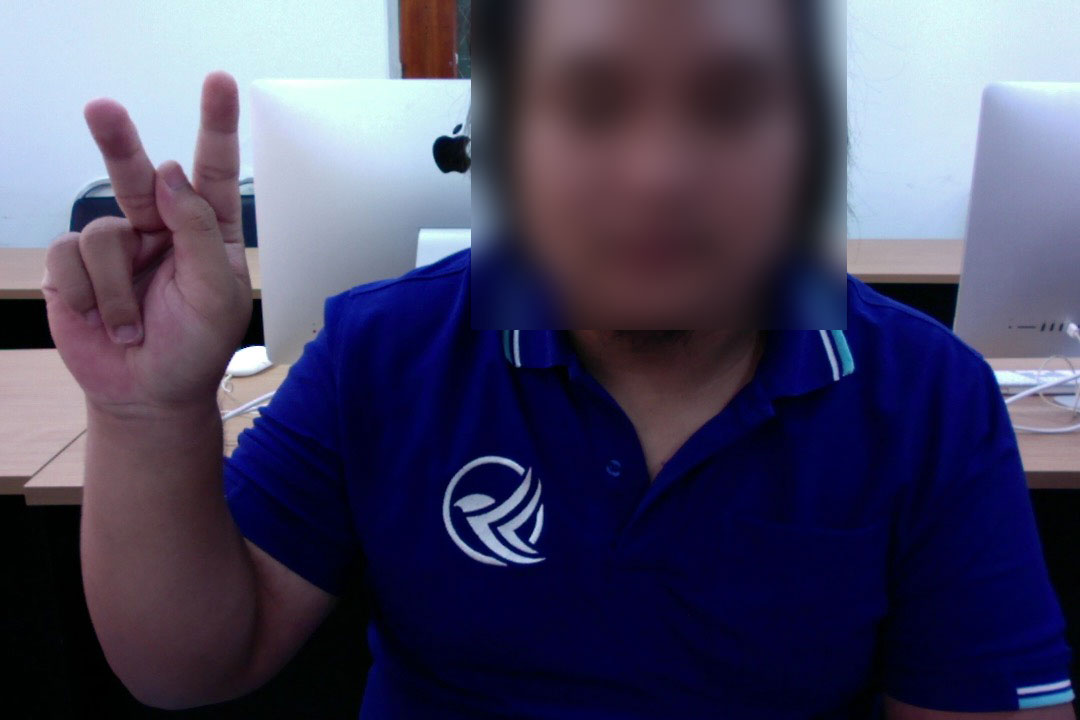ko: (35, 56, 260, 425)
